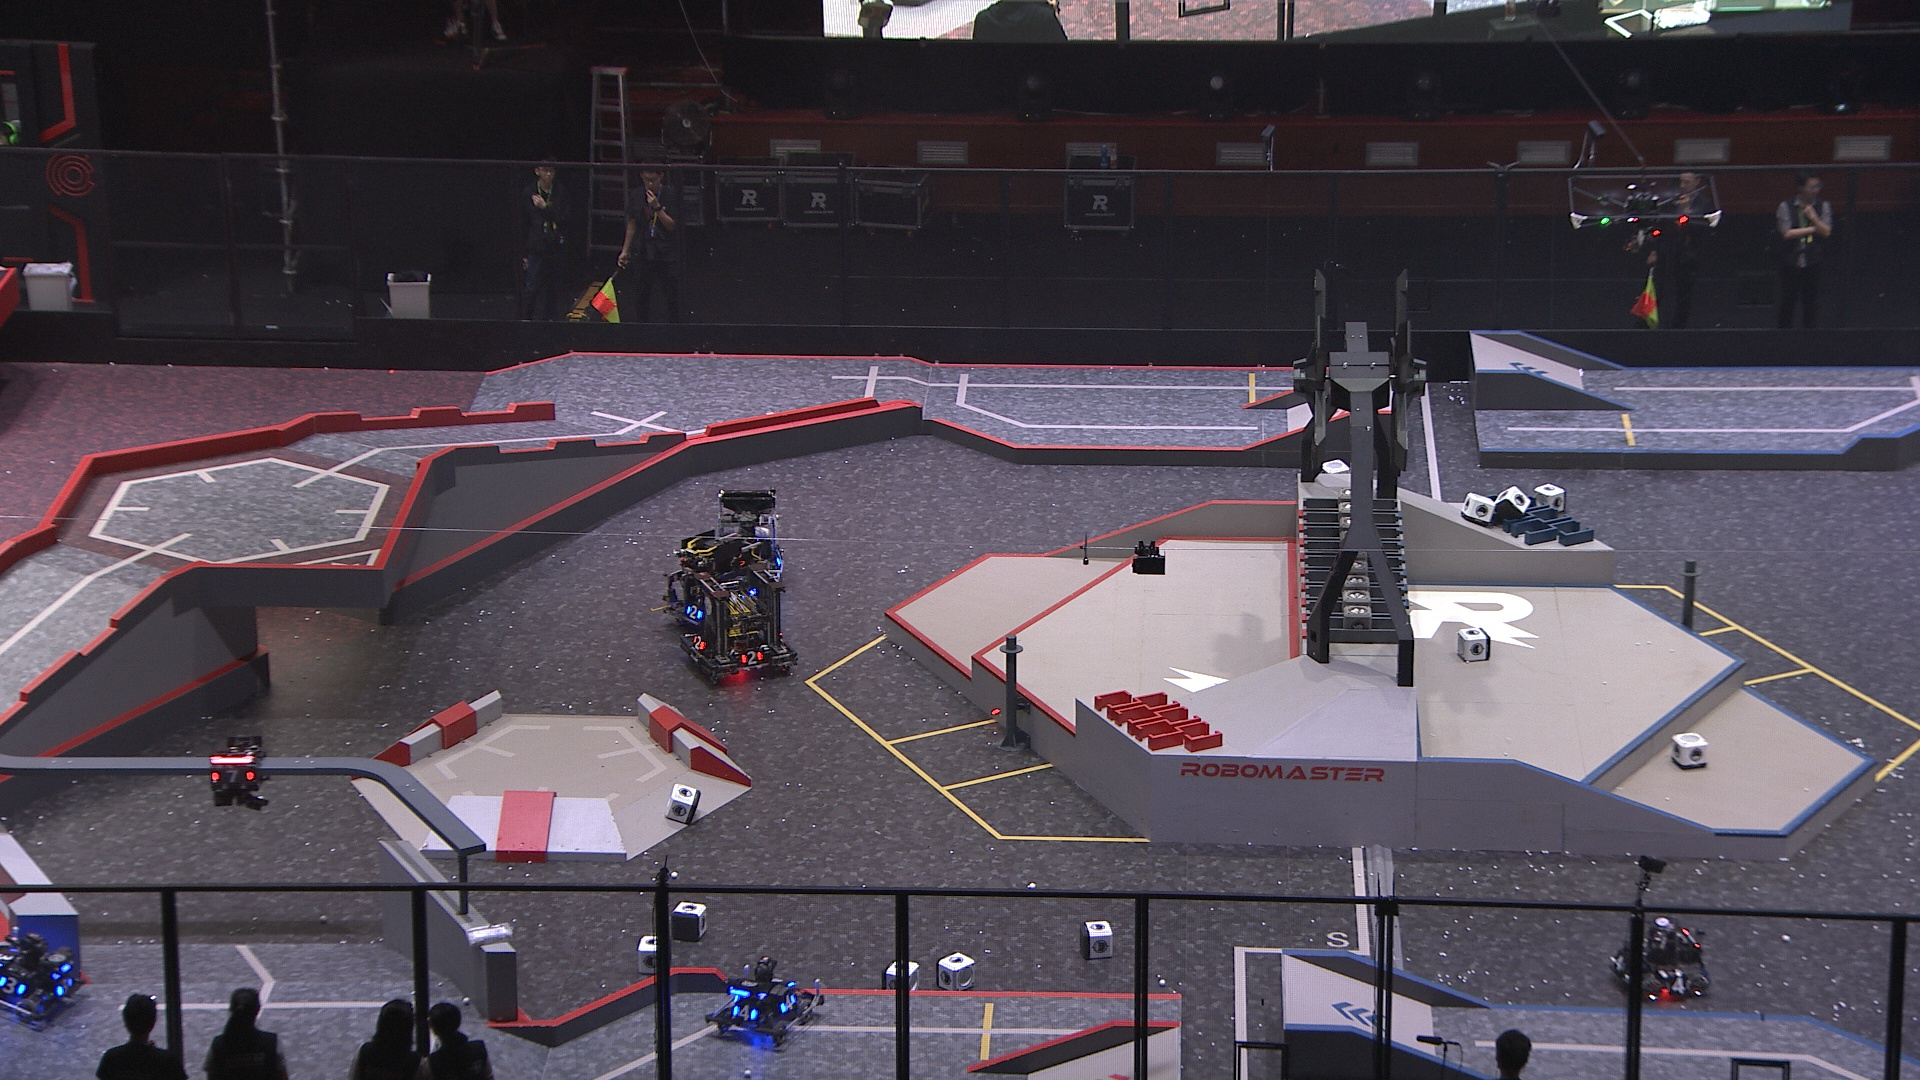armor: (208, 765, 256, 785), (0, 975, 30, 997), (732, 1002, 761, 1025), (1664, 975, 1691, 997), (737, 647, 764, 669), (778, 992, 798, 1019), (53, 975, 76, 997), (683, 603, 705, 624), (688, 629, 705, 651), (1610, 949, 1626, 971)
car: (675, 560, 807, 684), (665, 527, 774, 647), (704, 948, 828, 1044), (698, 487, 790, 604), (1607, 913, 1713, 1002)
watcher: (204, 731, 273, 811)
